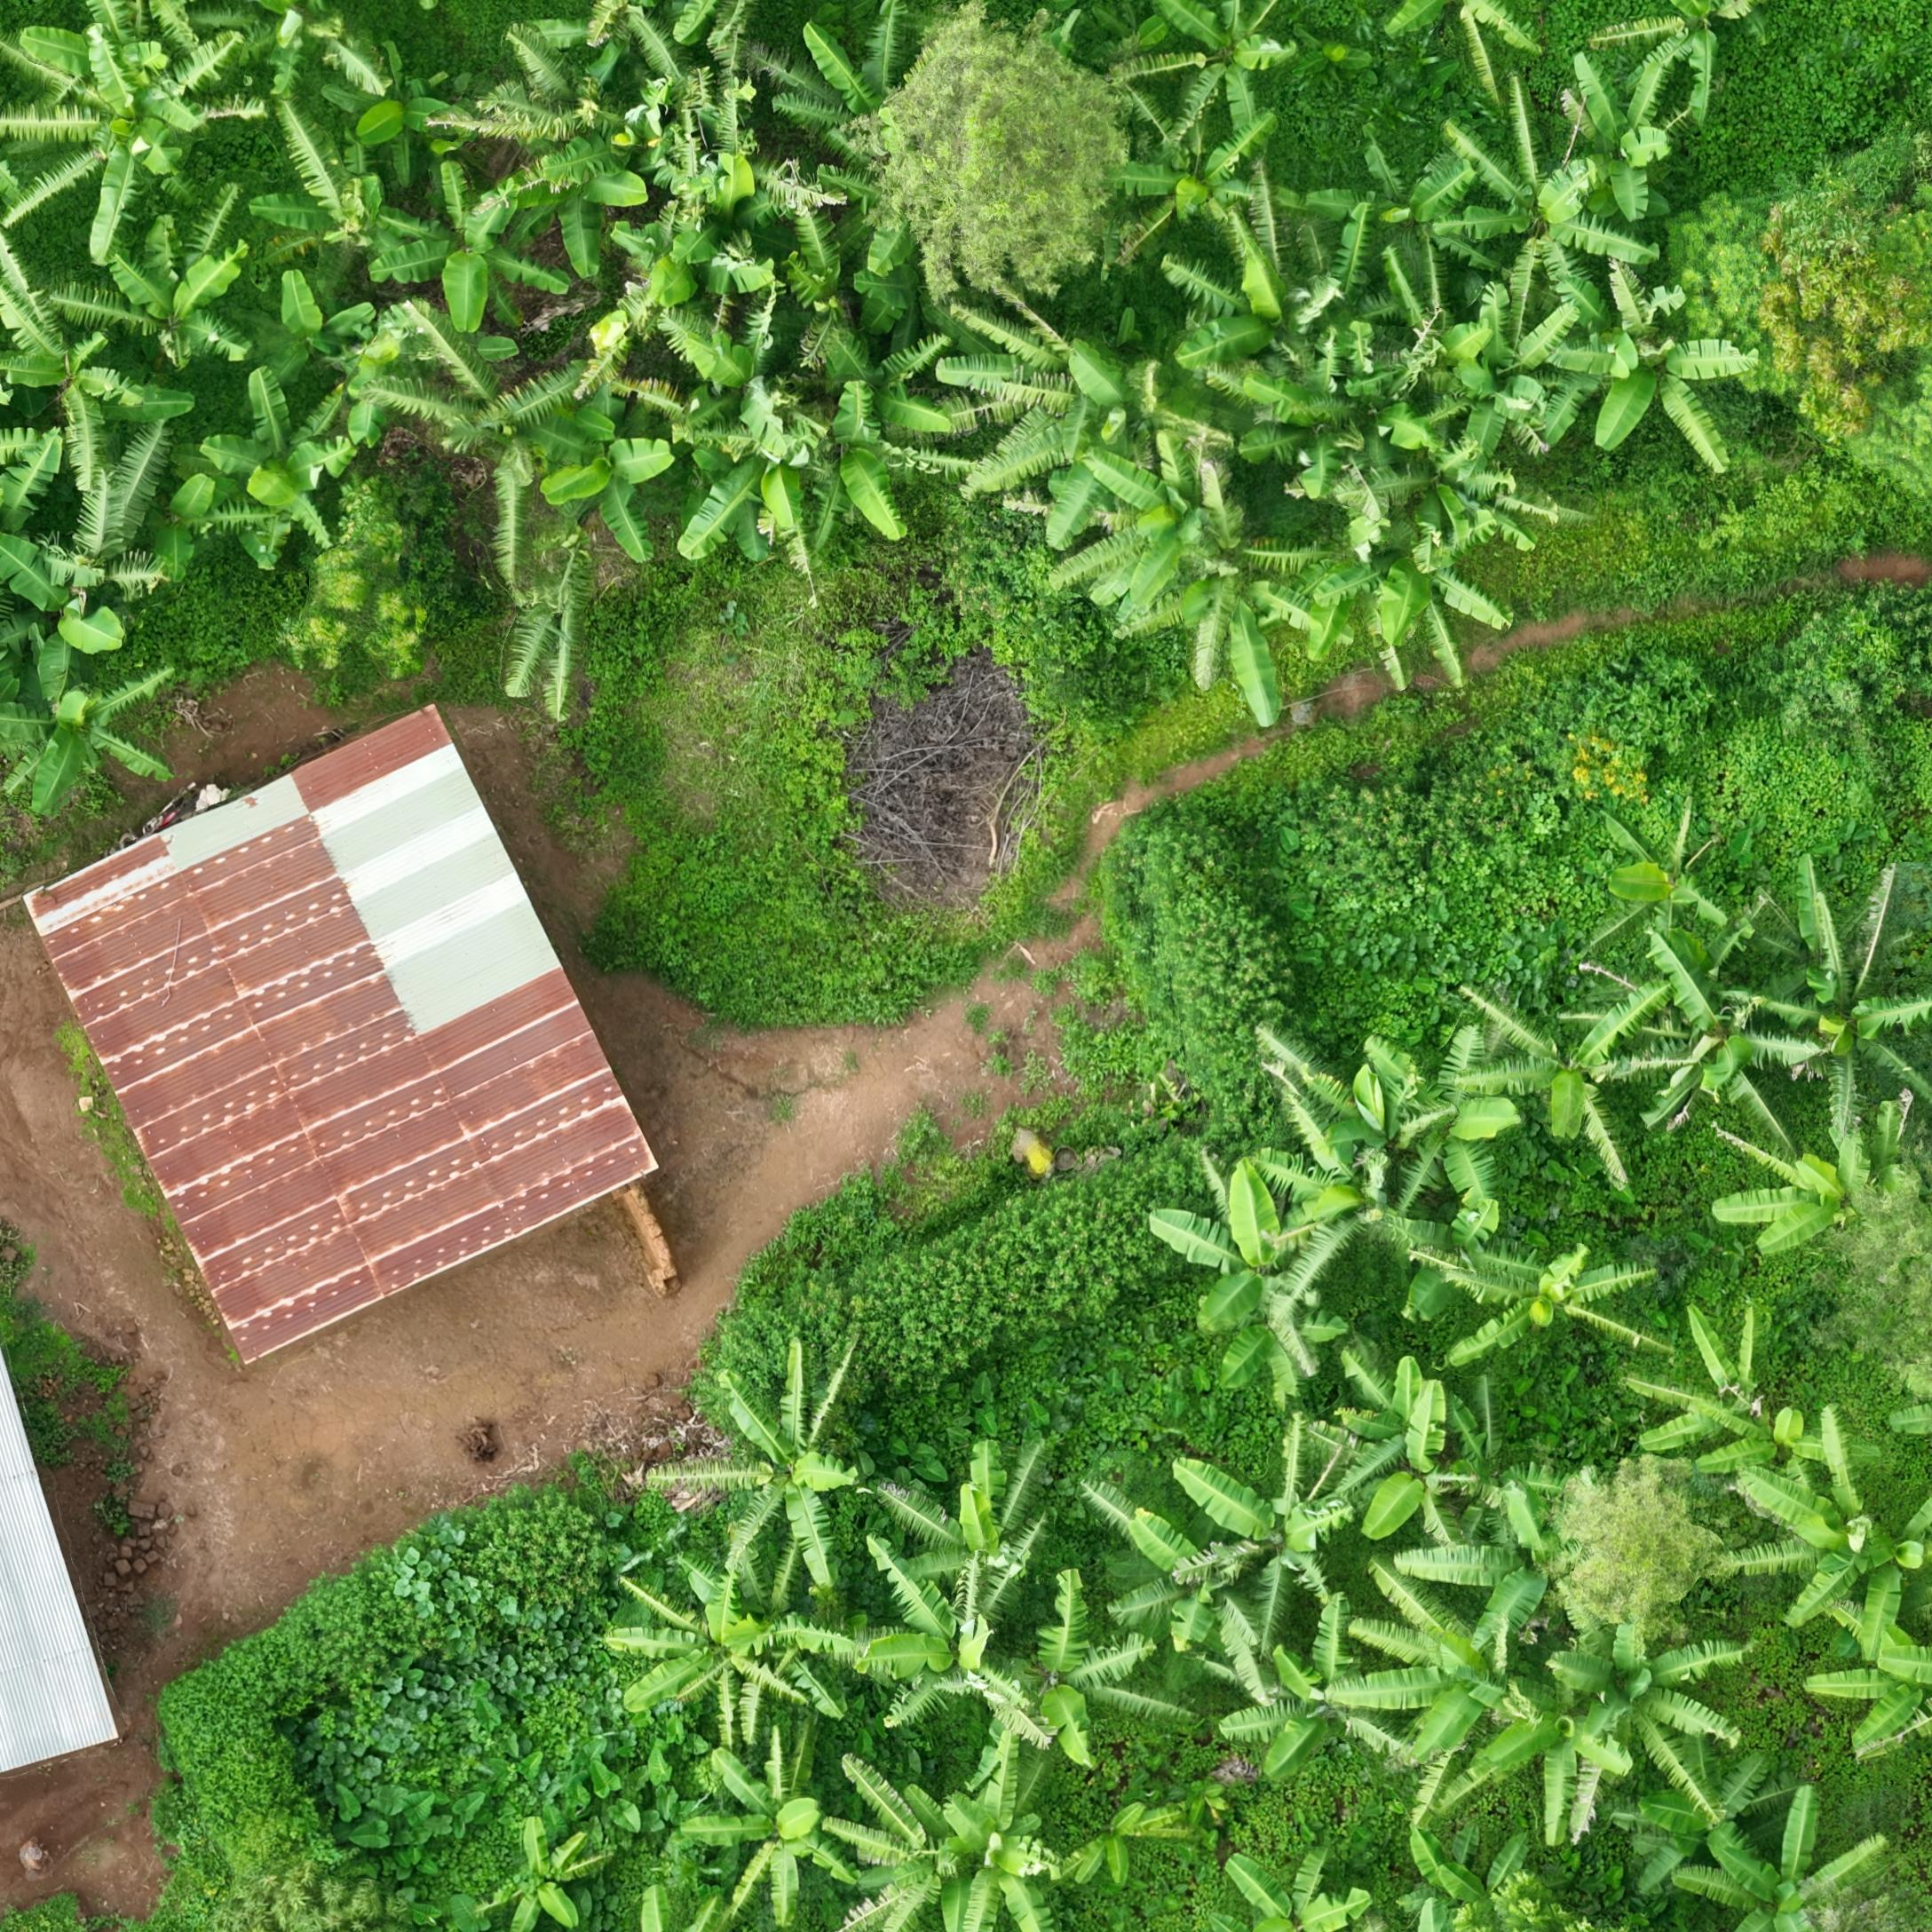Banana: (34, 12, 248, 246), (1507, 71, 1706, 322), (717, 1387, 906, 1645), (1166, 1189, 1412, 1368), (1532, 1042, 1764, 1226), (1122, 563, 1348, 750), (382, 340, 637, 499), (14, 285, 221, 478), (1210, 1454, 1419, 1644), (501, 460, 635, 741), (1412, 1656, 1629, 1824), (1079, 1626, 1242, 1845), (911, 1495, 1093, 1690), (1819, 883, 1932, 1187), (396, 180, 598, 350), (1619, 1672, 1810, 1845), (1697, 975, 1865, 1169), (11, 441, 198, 612), (510, 111, 678, 299), (984, 303, 1152, 490), (732, 1605, 893, 1789), (632, 1619, 793, 1801), (1309, 1076, 1527, 1208), (1663, 1362, 1858, 1509), (729, 386, 869, 587), (1502, 1279, 1721, 1407), (1801, 1468, 1932, 1679), (1651, 807, 1801, 985), (1304, 1695, 1477, 1844), (41, 623, 175, 814), (1656, 310, 1801, 487), (106, 226, 271, 382), (729, 1790, 904, 1932), (660, 9, 801, 182), (556, 426, 709, 582), (1263, 331, 1422, 481), (1240, 235, 1408, 366), (1438, 435, 1601, 568), (1683, 1790, 1835, 1932), (1175, 9, 1350, 131), (1520, 313, 1663, 458), (288, 27, 395, 212), (1805, 1159, 1932, 1313), (671, 303, 824, 428), (527, 48, 665, 184), (672, 157, 801, 299), (1175, 111, 1316, 237), (1428, 1467, 1553, 1605), (863, 396, 966, 563), (1090, 458, 1263, 556), (354, 48, 467, 195), (1346, 1198, 1500, 1306), (1398, 1408, 1513, 1550), (1656, 11, 1803, 119), (955, 1829, 1102, 1932), (869, 1835, 996, 1932), (1782, 1851, 1932, 1932), (1380, 446, 1476, 563)
